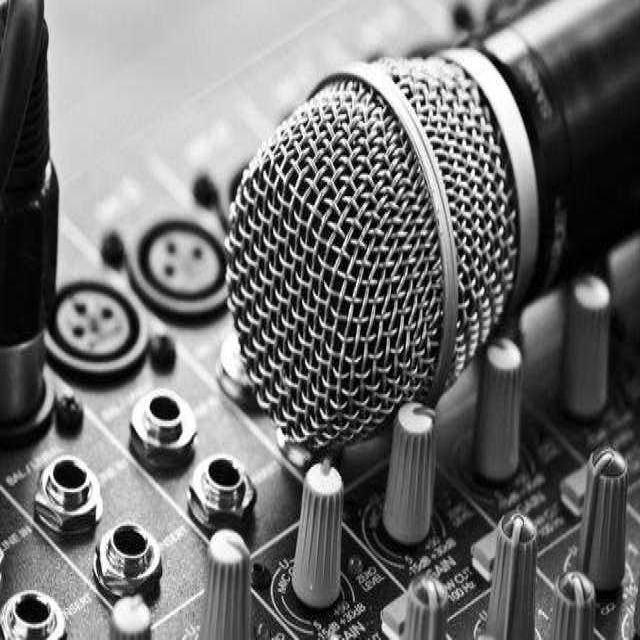microphone: (221, 7, 583, 431)
